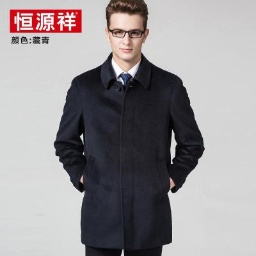face: (104, 1, 151, 61)
